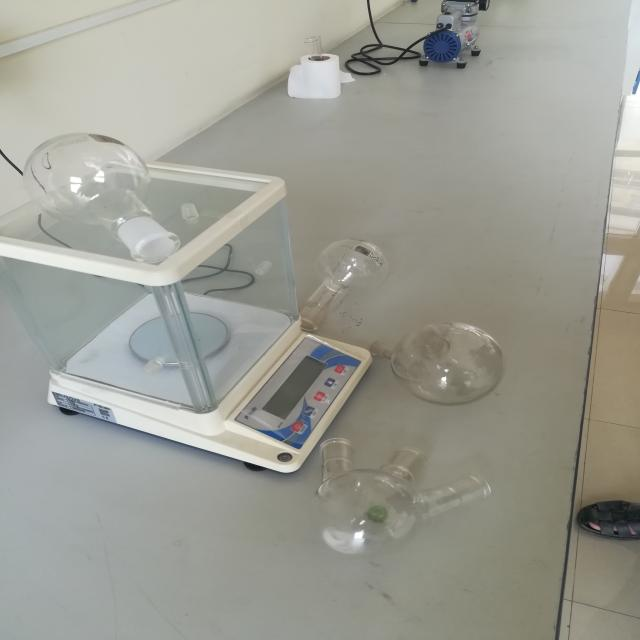Round_Bottom_Flask_Borosilicate_Glass_1_Neck: (15, 108, 203, 283), (274, 189, 409, 333)
Round_Bottom_Flask_Borosilicate_Glass_2_Neck: (360, 282, 534, 423)
Round_Bottom_Flask_Borosilicate_Glass_3_Neck: (293, 415, 500, 572)
